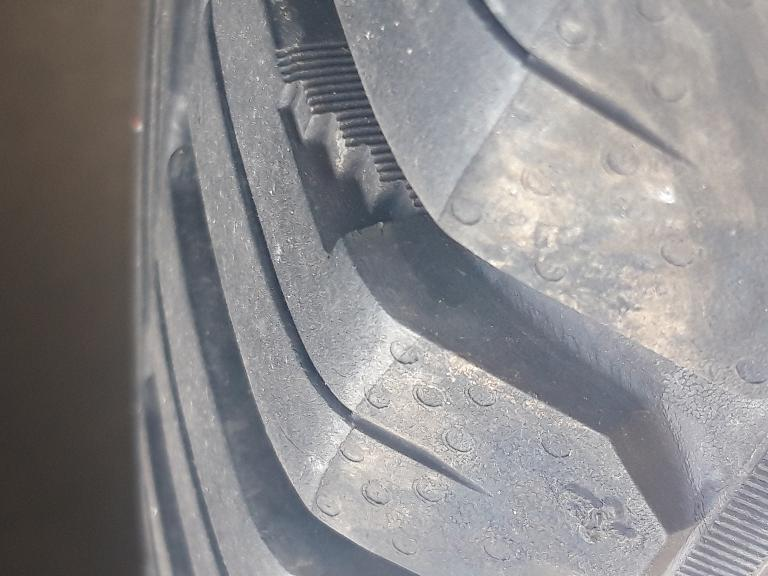temoin:90: (262, 33, 437, 267)
